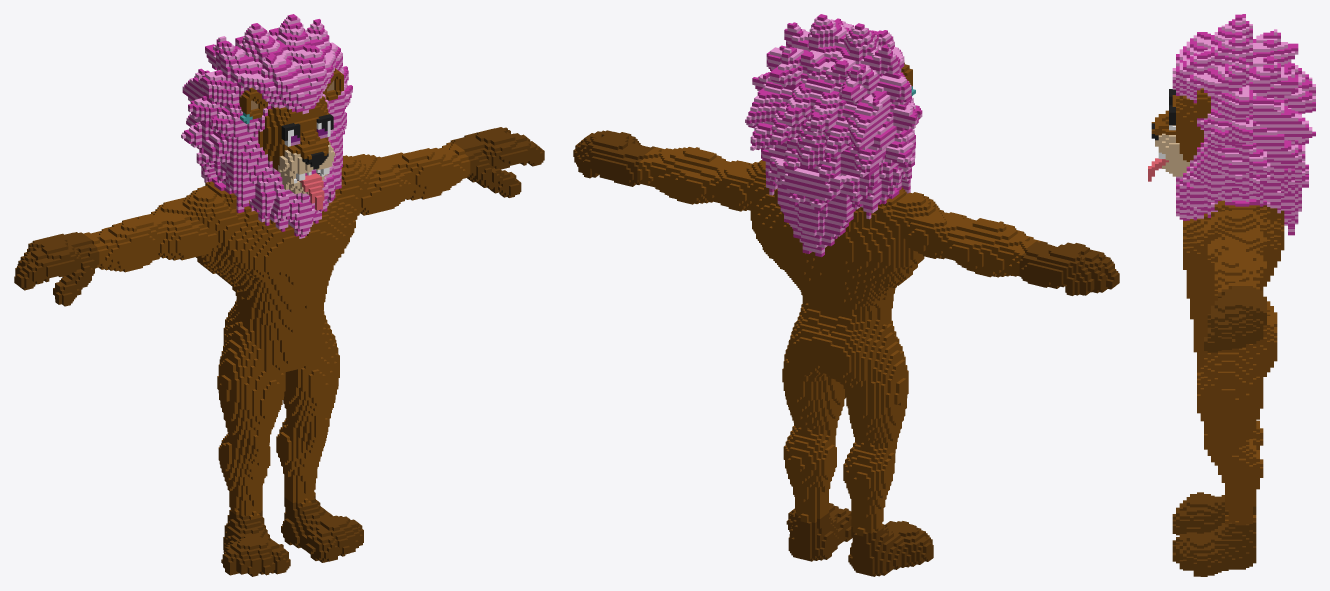
The model's file is 609-BMTm17Gt.glb.
The picture shows the model from 3 angles, left to right: view 1: azimuth 30°, elevation 25°; view 2: azimuth 150°, elevation 25°; view 3: azimuth 270°, elevation 25°; orthographic projection. The views are drawn at different scales.
Parts seen in each view (by area): view 1: tongue_out; view 2: tongue_out; view 3: tongue_out.
Boxes of the visible parts, x1,y1,x2,y2 form: tongue_out: (14, 14, 544, 576); tongue_out: (573, 14, 1119, 576); tongue_out: (1148, 14, 1315, 576).
Size of the model in its own units: 17.2 by 16.5 by 4.8.
Materials: 5 (5 with a texture image).
